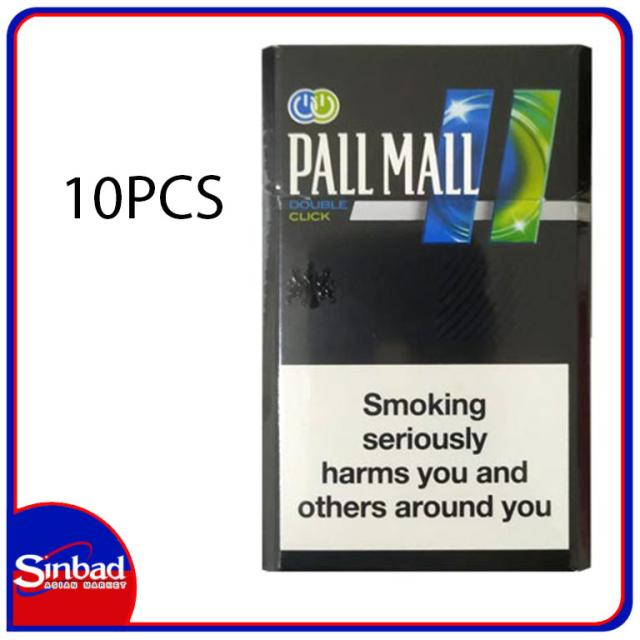pallmall: (249, 40, 600, 582)
